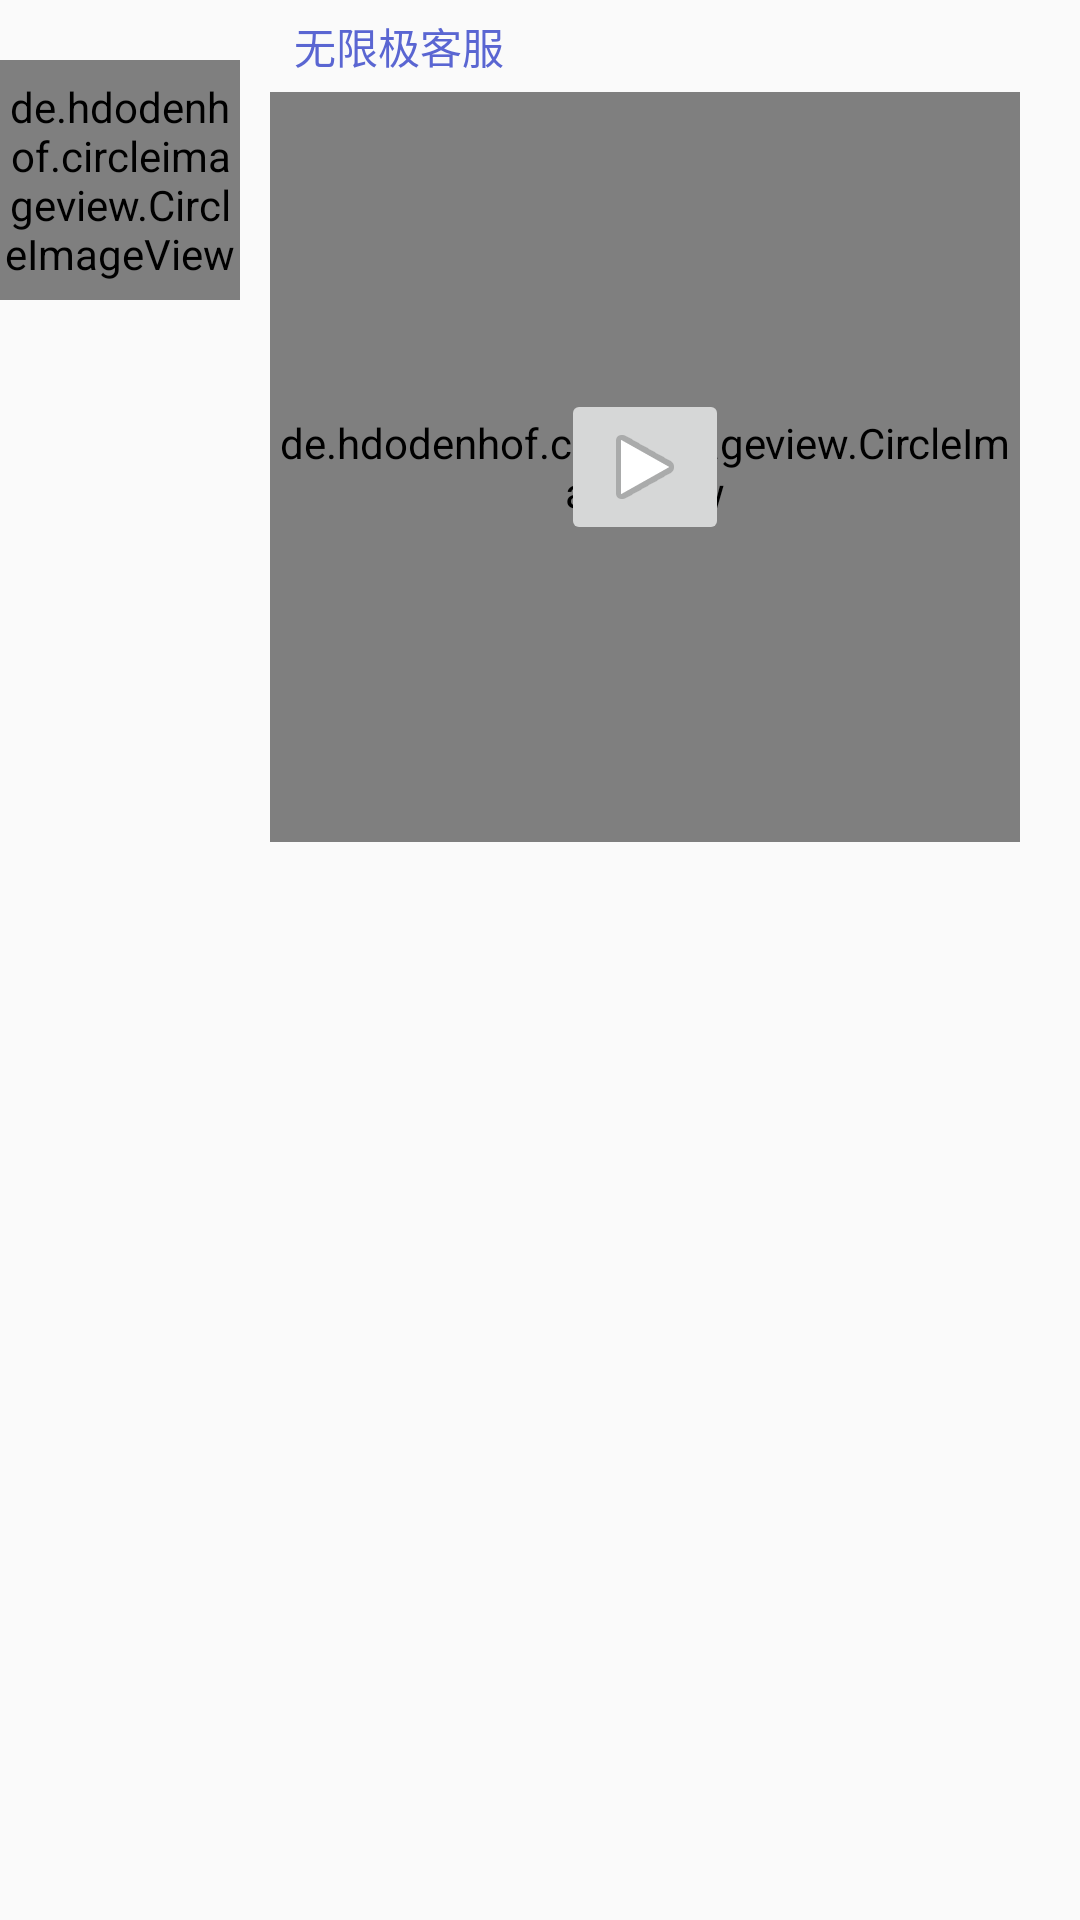

Where icons sit on this 1080×1920 app screen, as detection(x1, y1, x2, y2):
play: detection(567, 407, 724, 527)
